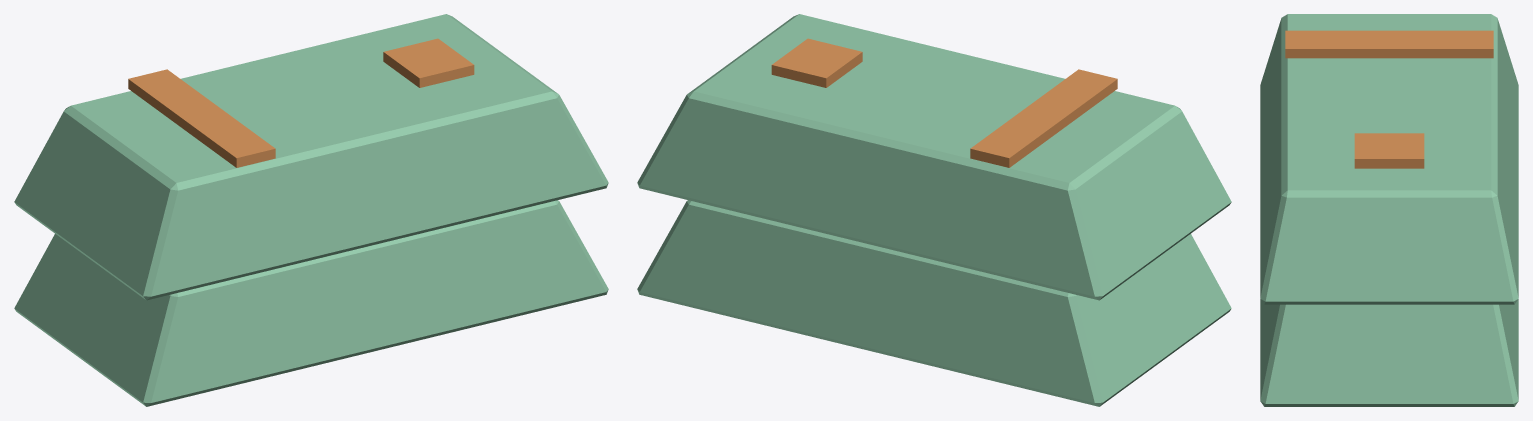
File: conductive-alloy.glb
The picture shows the model from 3 angles, left to right: view 1: azimuth 30°, elevation 25°; view 2: azimuth 150°, elevation 25°; view 3: azimuth 270°, elevation 25°; orthographic projection. The views are drawn at different scales.
Visible parts, largest first — view 1: conductive-alloy / Conductive alloy, conductive-alloy / Copper; view 2: conductive-alloy / Conductive alloy, conductive-alloy / Copper; view 3: conductive-alloy / Conductive alloy, conductive-alloy / Copper.
Part boxes in pixels (box(x1,y1,x2,y2)): conductive-alloy / Conductive alloy: box(14, 14, 608, 406); conductive-alloy / Copper: box(128, 38, 474, 167); conductive-alloy / Conductive alloy: box(637, 14, 1231, 406); conductive-alloy / Copper: box(771, 38, 1117, 167); conductive-alloy / Conductive alloy: box(1260, 14, 1518, 406); conductive-alloy / Copper: box(1285, 30, 1493, 168).
Bounding box in the file's own units: 0.2975 × 0.132 × 0.1487.
